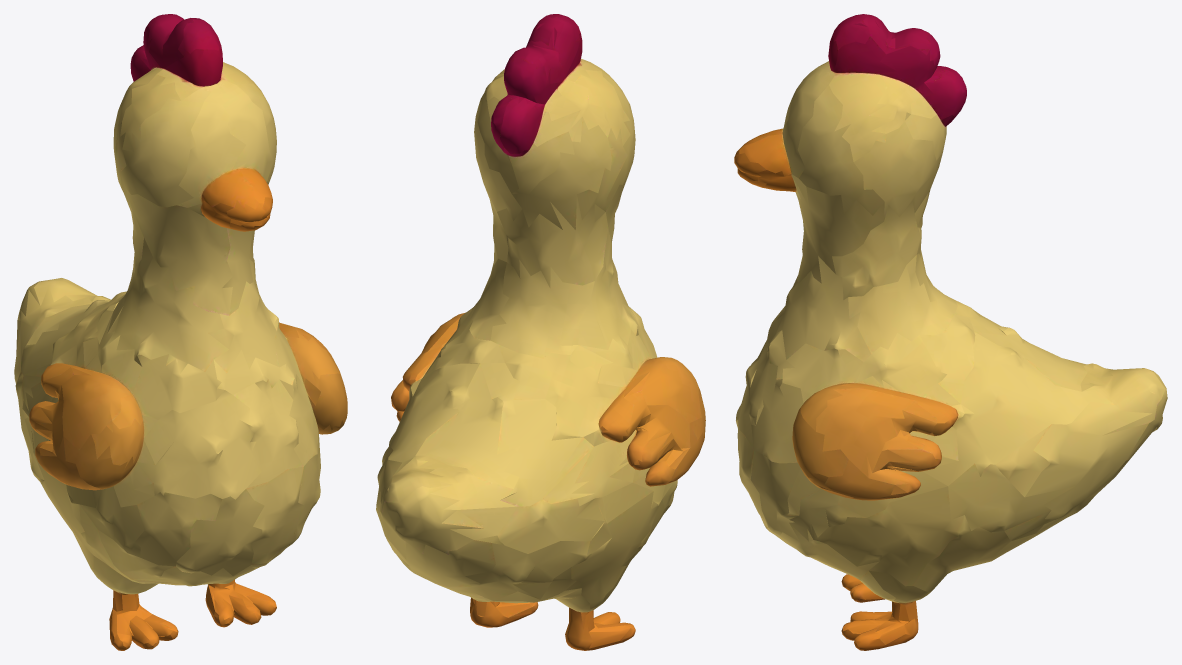
File: rubber_chicken.glb
The picture shows the model from 3 angles, left to right: view 1: azimuth 30°, elevation 25°; view 2: azimuth 150°, elevation 25°; view 3: azimuth 270°, elevation 25°; orthographic projection. The views are drawn at different scales.
Size of the model in its own units: 0.9041 by 1.9 by 1.25.
1 material, 1 textured.
